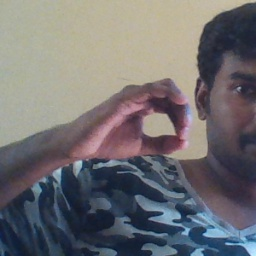O: (75, 75, 193, 163)
